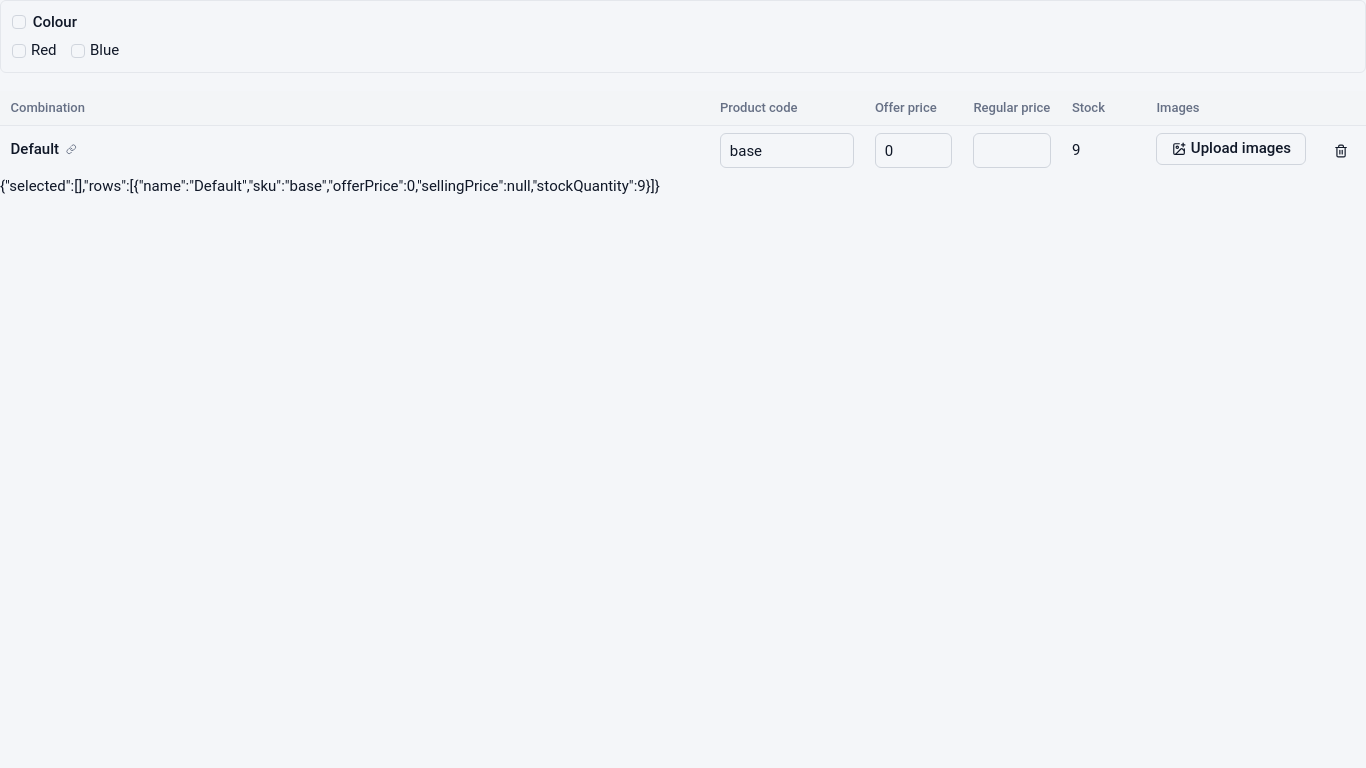
Scenario: VariantEditor › asks before a change that cannot carry a combination over, and changes nothing until answered
The width and height of the screenshot is (1366, 768).
What coordinates should you click on to do the following:
click the checkbox named "Red" next to "Red"
I would click on:
 (19, 51)
Its box is [12,44,26,58].
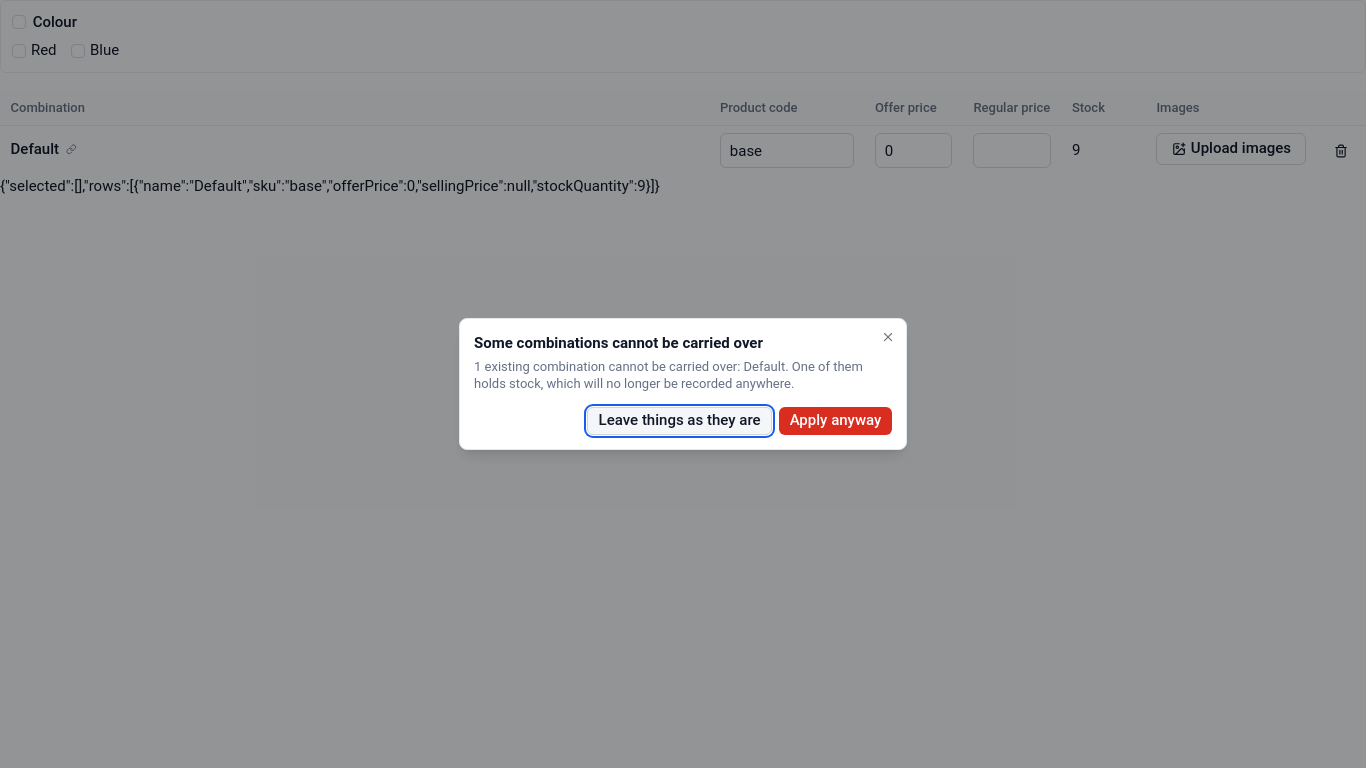
Expected: the text "Default" is shown, [10,138,59,160]
Expected: the heading "Some combinations cannot be carried over" is shown, [474,334,763,352]
